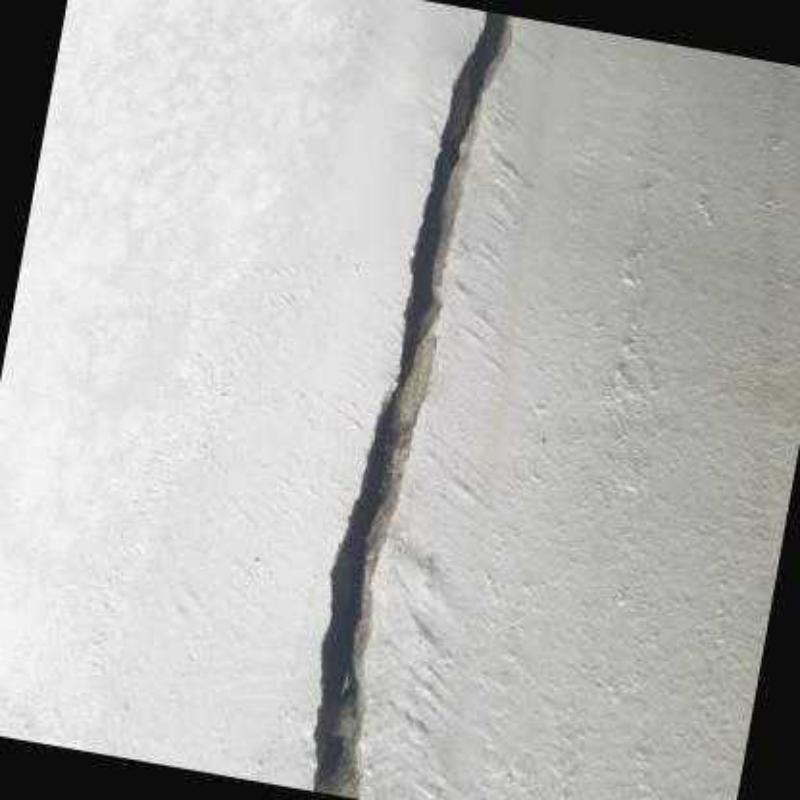pothole: (313, 10, 509, 800)
